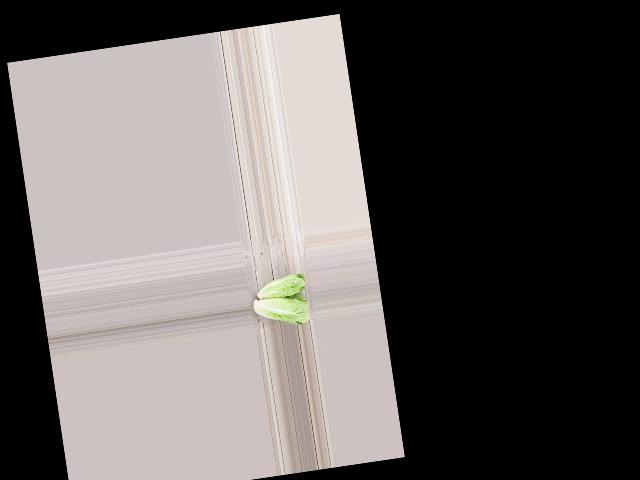lettuce: (249, 291, 313, 332)
